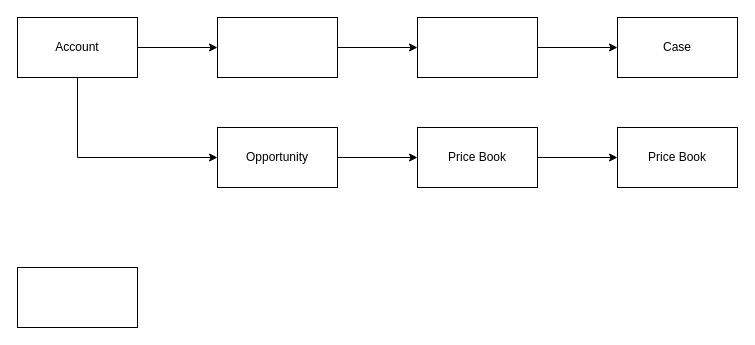
This 755x345 diagram has some shape labels left out. Each missing label, with the centre of its shape:
"Asset" goes at point (477, 47).
"Contact" goes at point (277, 47).
"Lead" goes at point (77, 297).
